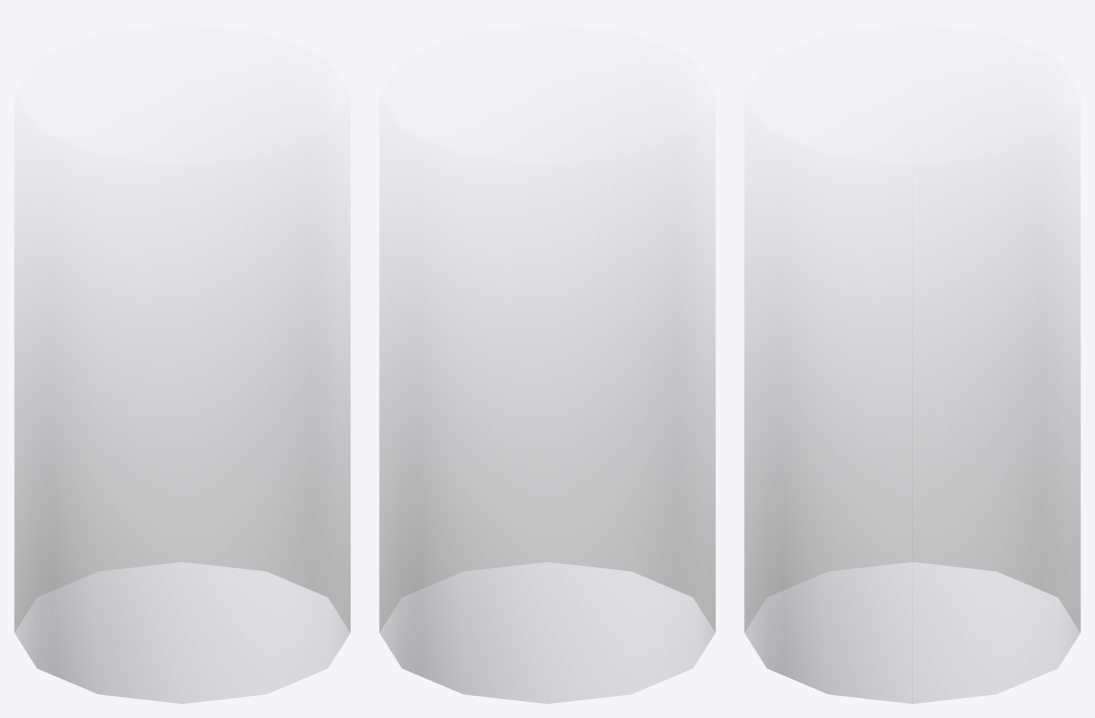
The picture shows the model from 3 angles, left to right: view 1: azimuth 30°, elevation 25°; view 2: azimuth 150°, elevation 25°; view 3: azimuth 270°, elevation 25°; orthographic projection.
Visible parts, largest first — view 1: pCylinder5; view 2: pCylinder5; view 3: pCylinder5.
Boxes of the visible parts, left/top/right/bottom form: pCylinder5: left=14, top=163, right=350, bottom=703; pCylinder5: left=379, top=163, right=715, bottom=703; pCylinder5: left=744, top=154, right=1080, bottom=703.
Bounding box in the file's own units: 96.44 × 174 × 96.44.
1 material, 1 textured.
